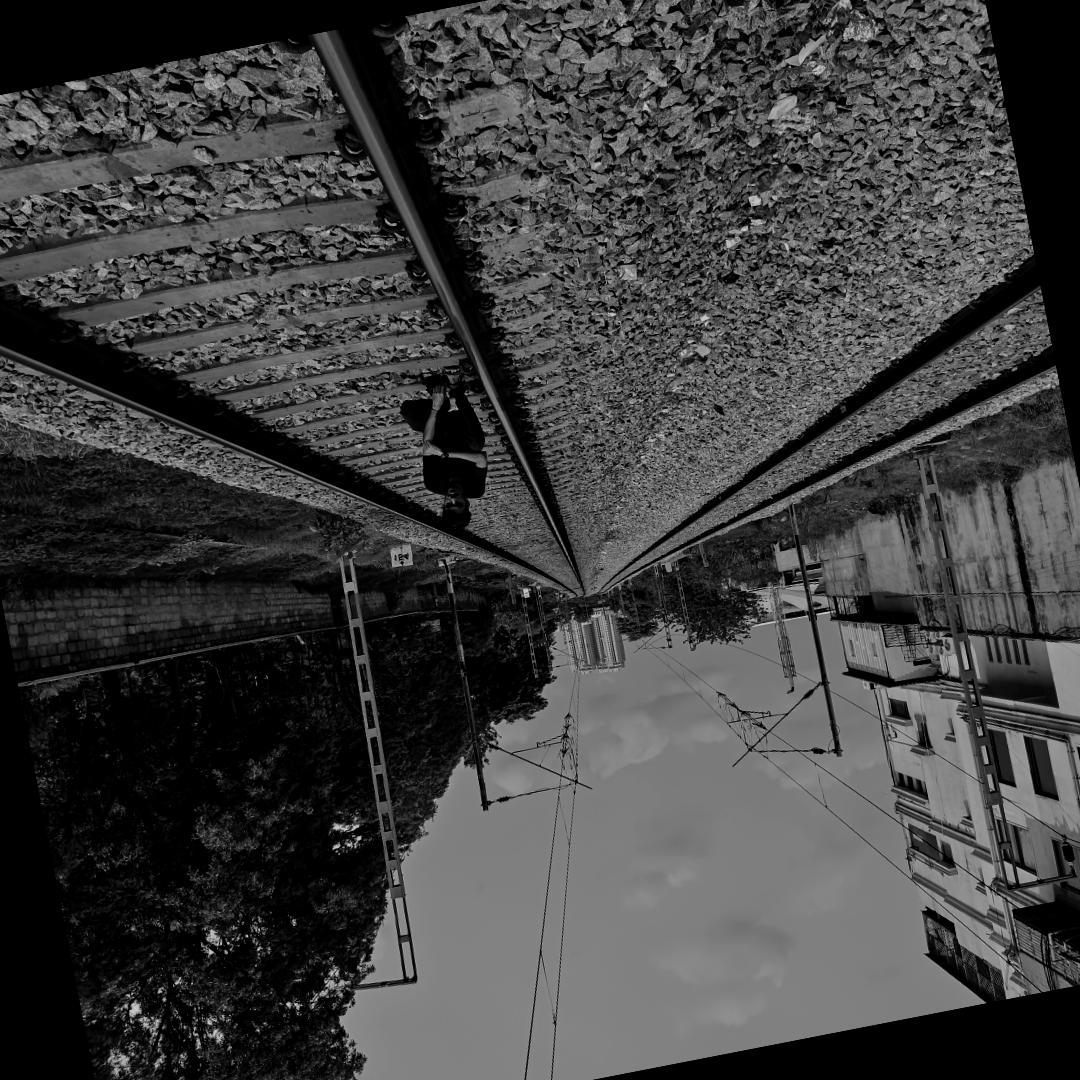sitting: (386, 352, 522, 545)
track: (0, 4, 594, 599)
